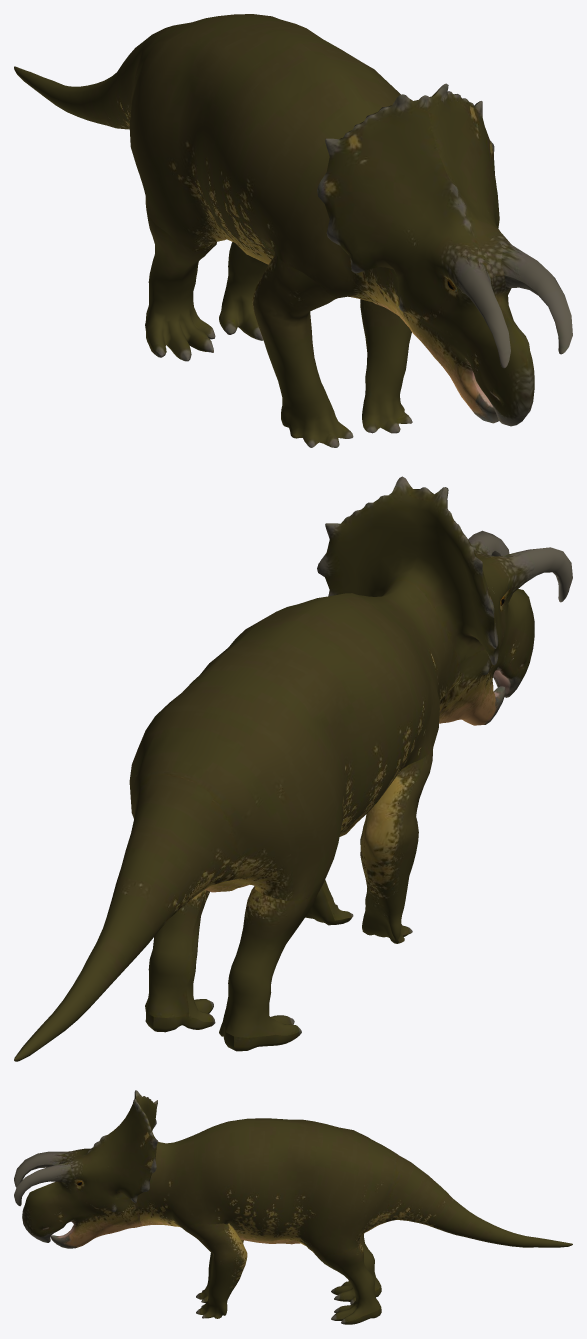
File: Avaceratops.glb
The picture shows the model from 3 angles, top to bottom: view 1: azimuth 30°, elevation 25°; view 2: azimuth 150°, elevation 25°; view 3: azimuth 270°, elevation 25°; orthographic projection. The views are drawn at different scales.
Parts seen in each view (by area): view 1: DW_Avaceratops_Adulto_Mayor_mesh; view 2: DW_Avaceratops_Adulto_Mayor_mesh; view 3: DW_Avaceratops_Adulto_Mayor_mesh.
Part boxes in pixels (x1=…): DW_Avaceratops_Adulto_Mayor_mesh: x1=14, y1=14, x2=572, y2=447; DW_Avaceratops_Adulto_Mayor_mesh: x1=14, y1=476, x2=572, y2=1061; DW_Avaceratops_Adulto_Mayor_mesh: x1=14, y1=1090, x2=572, y2=1324.
Size of the model in its own units: 0.2051 by 0.4183 by 1.
Materials: 2 (2 with a texture image).
